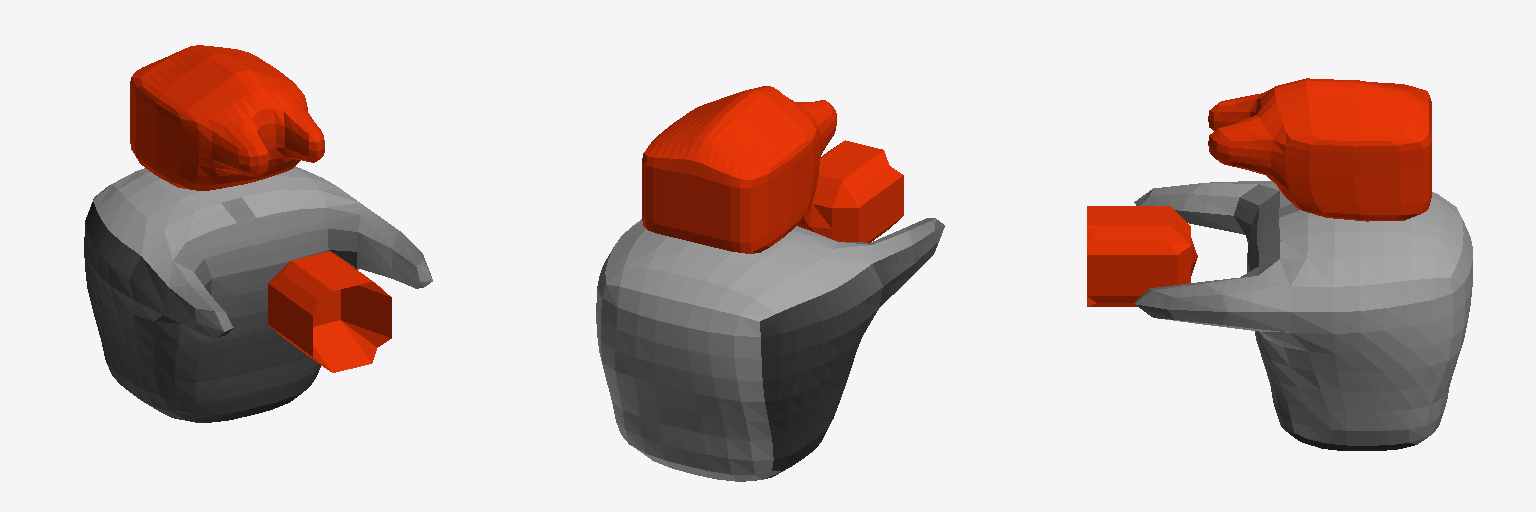
The picture shows the model from 3 angles: view 1: azimuth 30°, elevation 25°; view 2: azimuth 150°, elevation 25°; view 3: azimuth 270°, elevation 25°; orthographic projection.
Visible parts, largest first — view 1: 立方体; view 2: 立方体; view 3: 立方体.
Boxes of the visible parts, box(x1,y1,x2,y2) form: 立方体: box(84, 45, 432, 422); 立方体: box(596, 86, 944, 481); 立方体: box(1087, 78, 1472, 450).
Size of the model in its own units: 2.81 by 3.9 by 3.89.
1 materials, 1 textured.